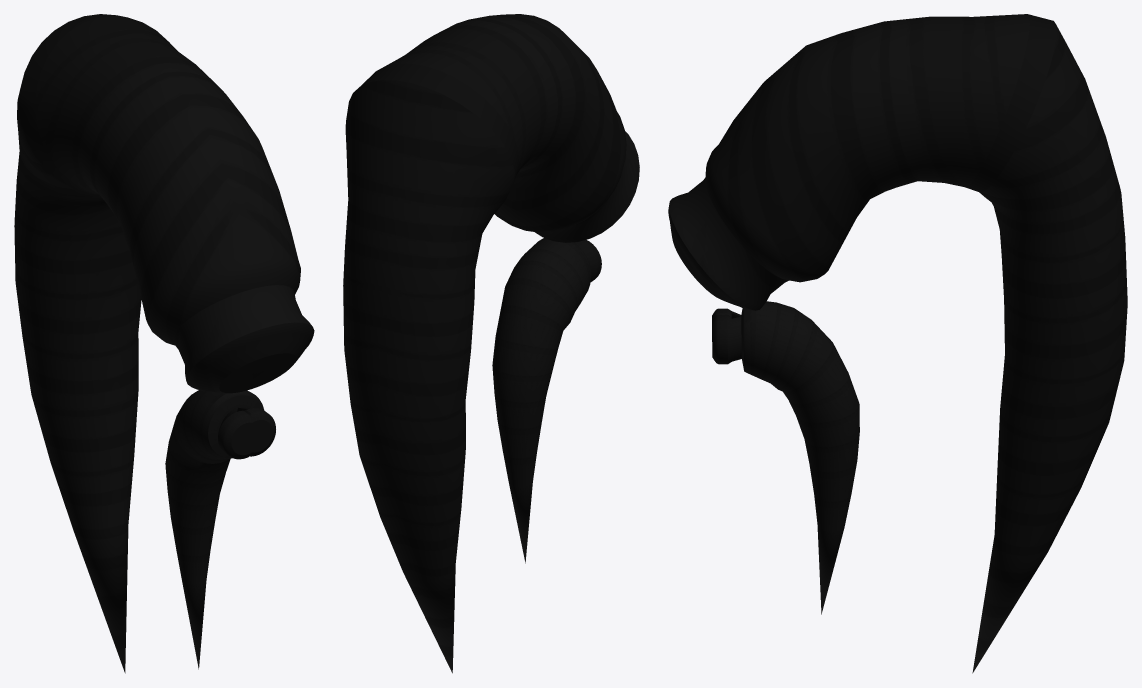
File: DireHorn.fbx
The picture shows the model from 3 angles, left to right: view 1: azimuth 30°, elevation 25°; view 2: azimuth 150°, elevation 25°; view 3: azimuth 270°, elevation 25°; orthographic projection. The views are drawn at different scales.
Parts seen in each view (by area): view 1: Cone; view 2: Cone; view 3: Cone.
Part boxes in pixels (x1,y1,x2,y2): Cone: (14,14,314,673); Cone: (343,14,639,673); Cone: (668,14,1127,673).
Size of the model in its own units: 115 by 423 by 271.
